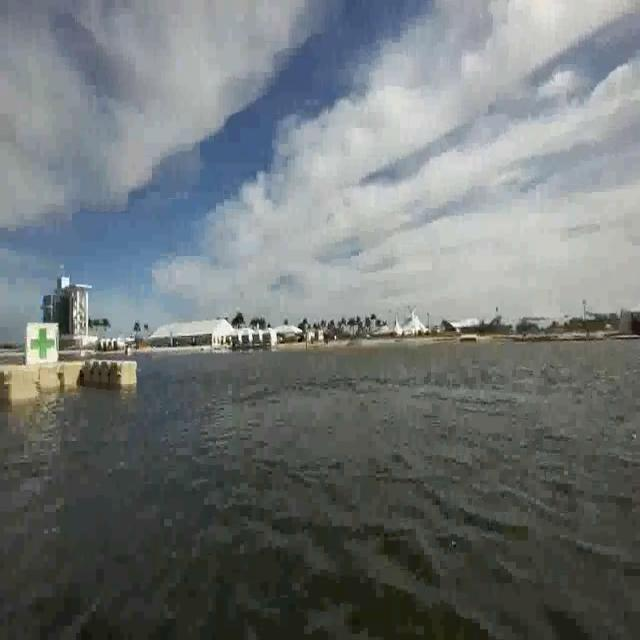blue-cross: (31, 322, 59, 366)
